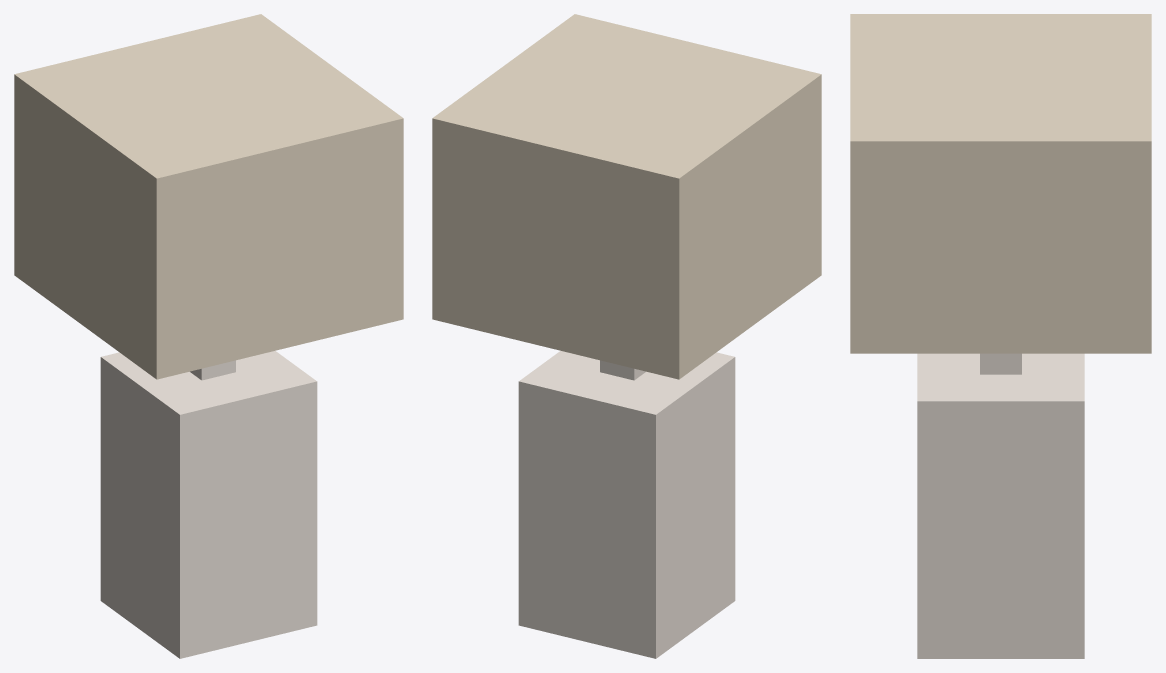
The model's file is lamp_table.glb.
3 renders of one model, left to right at view 1: azimuth 30°, elevation 25°; view 2: azimuth 150°, elevation 25°; view 3: azimuth 270°, elevation 25°, orthographic. The views are drawn at different scales.
Parts seen in each view (by area): view 1: lamp_table; view 2: lamp_table; view 3: lamp_table.
Part boxes in pixels (x1,y1,x2,y2): lamp_table: (14, 14, 403, 658); lamp_table: (432, 14, 821, 658); lamp_table: (850, 14, 1151, 658).
Bounding box in the file's own units: 0.36 × 0.72 × 0.36.
